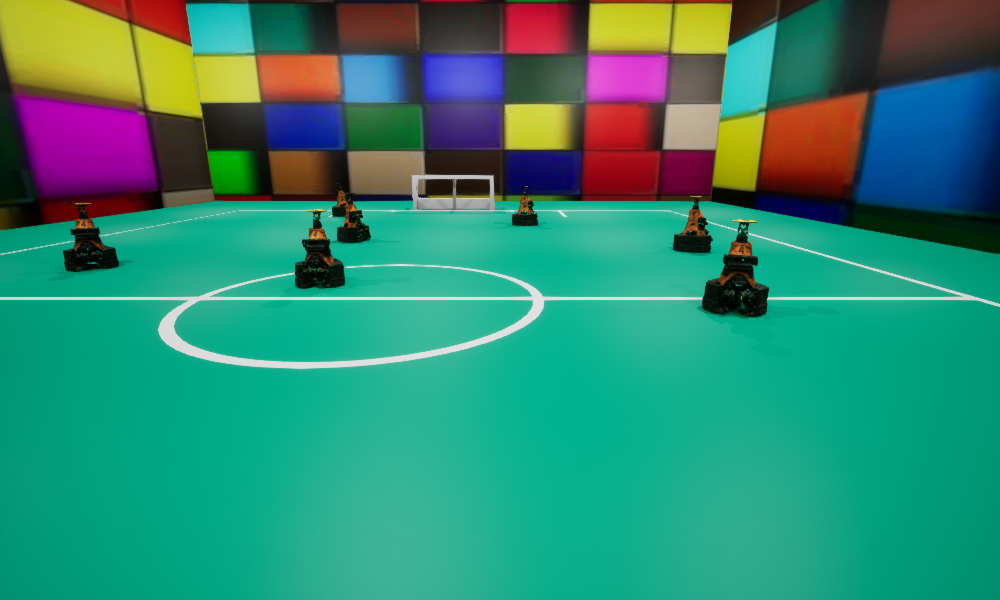o: (702, 219, 768, 315), (295, 209, 344, 288), (63, 203, 118, 271), (673, 196, 712, 252), (337, 193, 370, 242), (512, 186, 537, 225), (332, 183, 351, 216)
